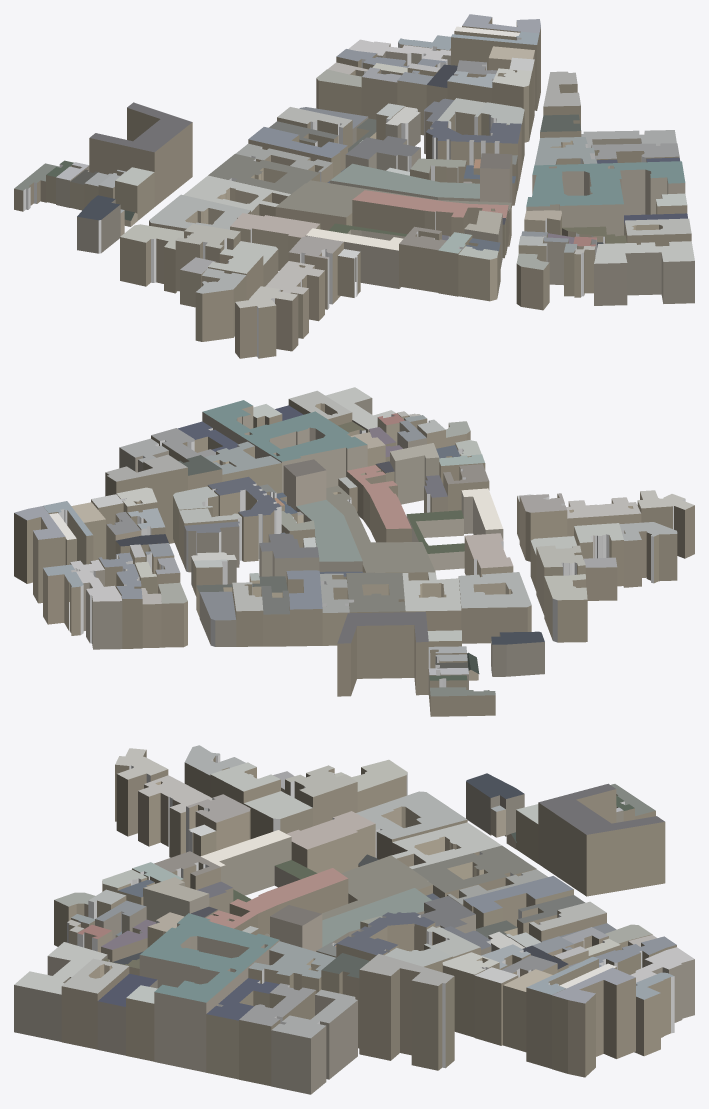
3 views of the same model, one above another, from view 1: azimuth 30°, elevation 25°; view 2: azimuth 150°, elevation 25°; view 3: azimuth 270°, elevation 25° (orthographic). The views are drawn at different scales.
Parts seen in each view (by area): view 1: tuile; view 2: tuile; view 3: tuile.
Boxes of the visible parts, <box> form: tuile: <box>14,14,694,358</box>; tuile: <box>14,387,694,716</box>; tuile: <box>14,745,694,1094</box>.
Bounding box in the file's own units: 284 × 39.43 × 282.
